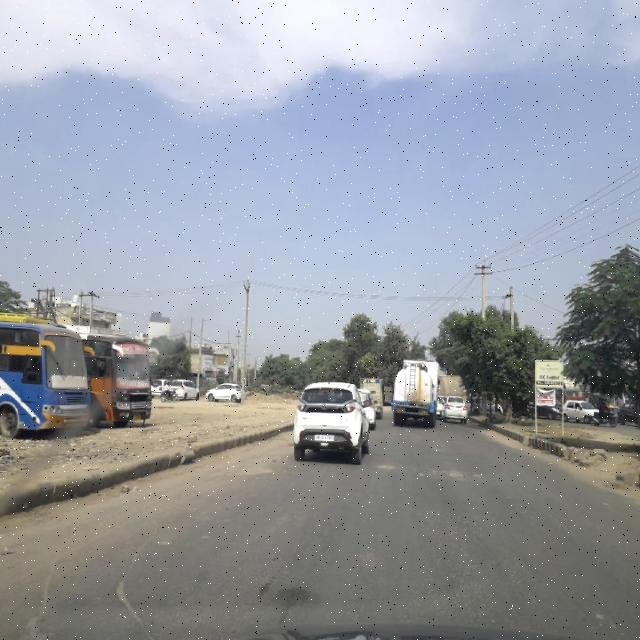D00: (108, 513, 146, 634), (24, 548, 66, 638)
D40: (409, 465, 482, 481), (223, 459, 277, 480)
